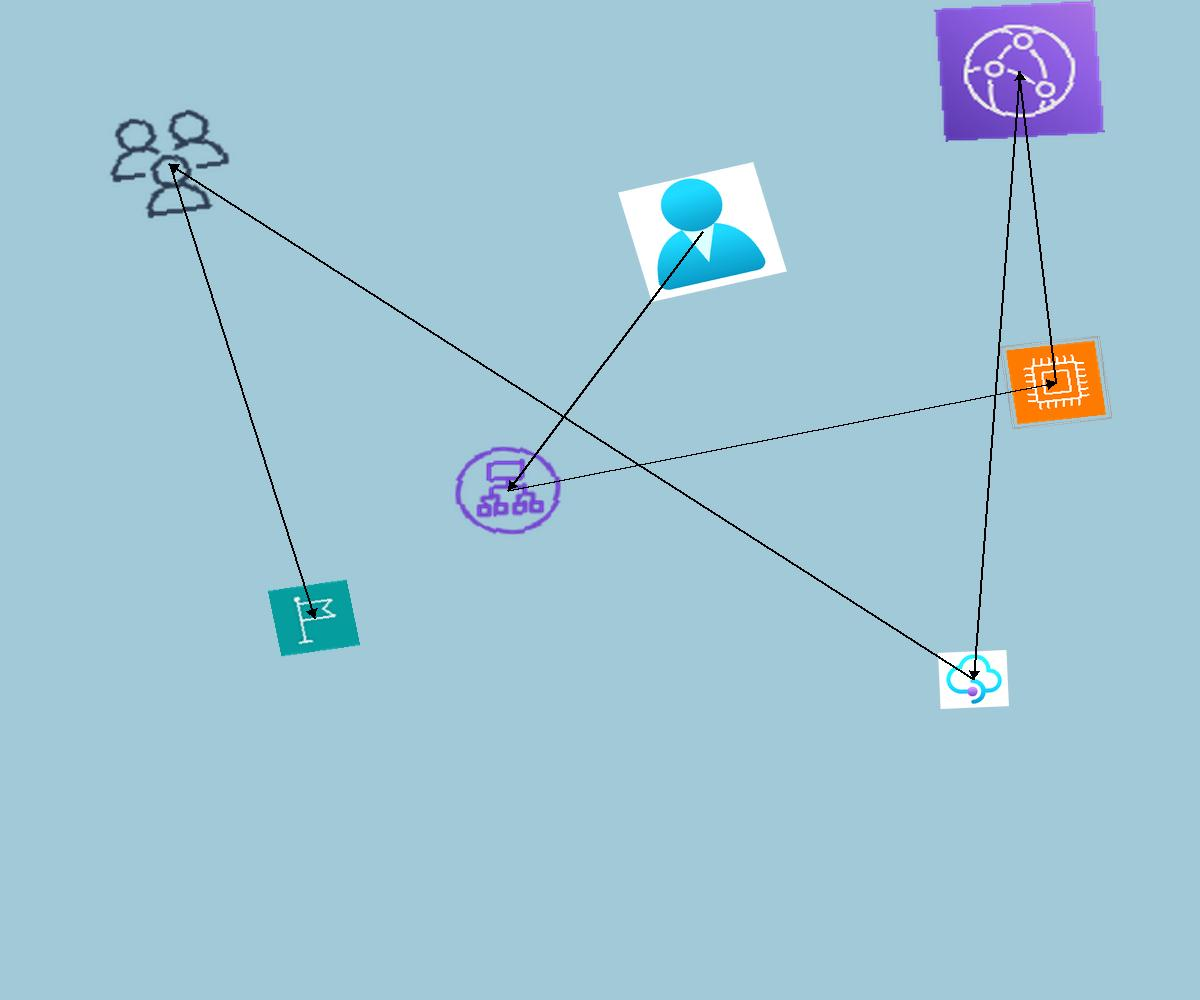AWS-Category_Compute: (999, 335, 1113, 430)
AWS-CloudFront: (934, 0, 1105, 142)
AWS-Region: (267, 579, 361, 657)
AWS-Res_Elastic-Load-Balancing_Application-Load-Balancer: (446, 439, 570, 542)
AWS-Res_Users: (94, 101, 245, 227)
Azure_api_gateway: (938, 650, 1009, 709)
Azure_users: (618, 162, 787, 302)
